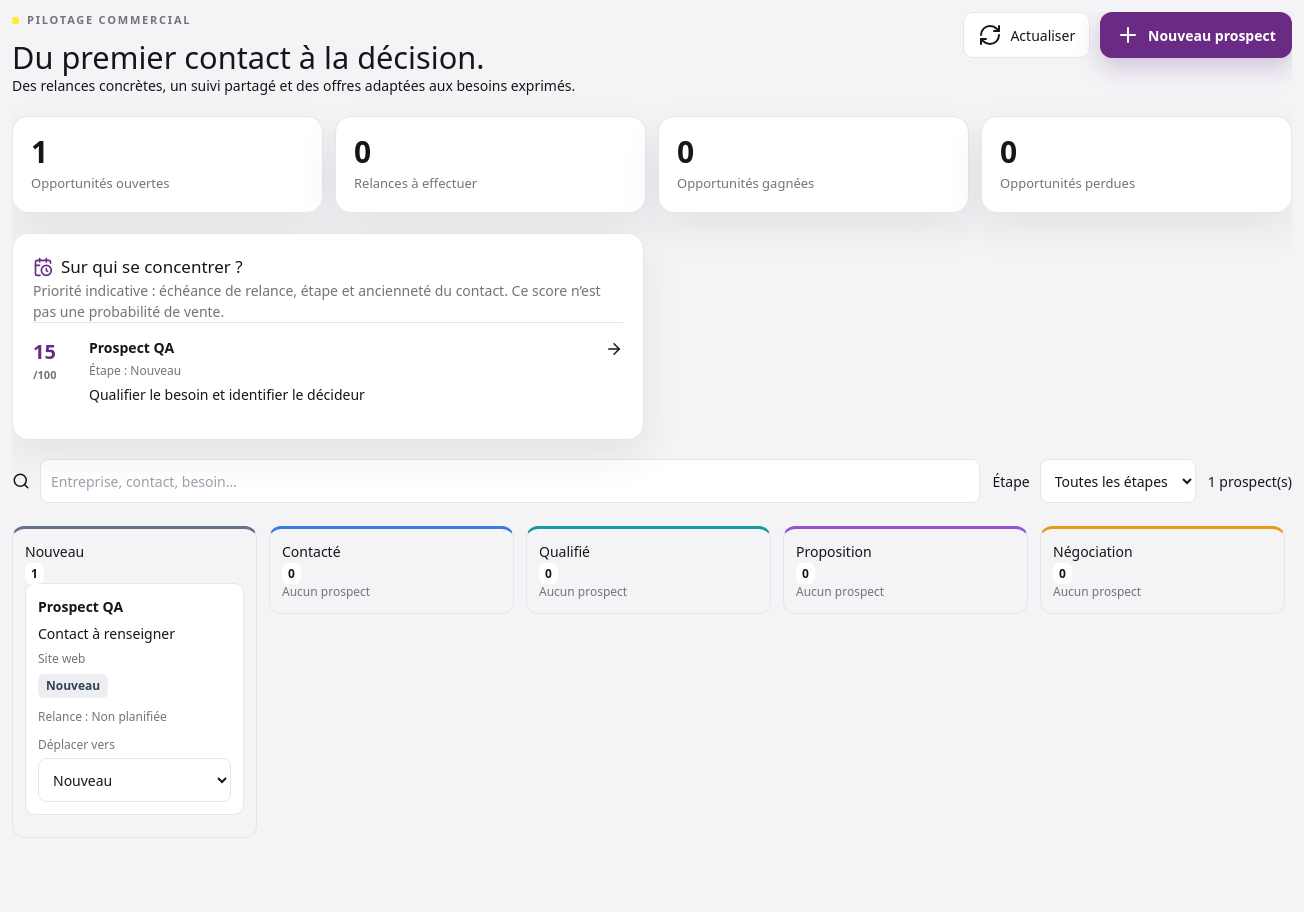
Test: parcours commercial et droits › enregistre le déplacement puis conserve une opportunité perdue dans son tableau
Select "Perdu" in the dropdown named "Étape de Prospect QA": (134, 780) [38,758,231,802]
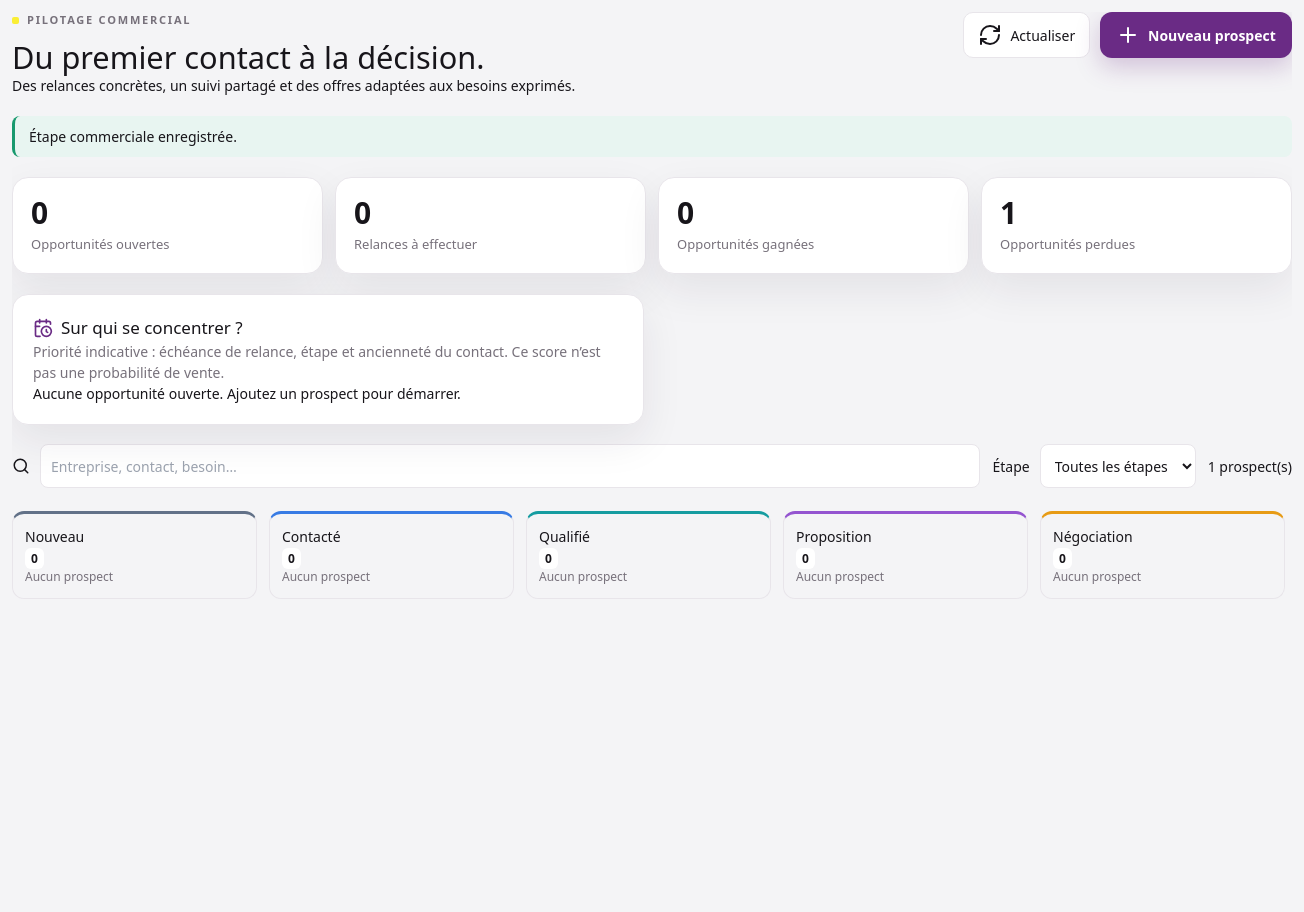
Now the text "Étape commerciale enregistrée." is shown, box [12,116,1292,157]
Now the text "Aucune opportunité ouverte" is shown, box [33,383,461,402]
